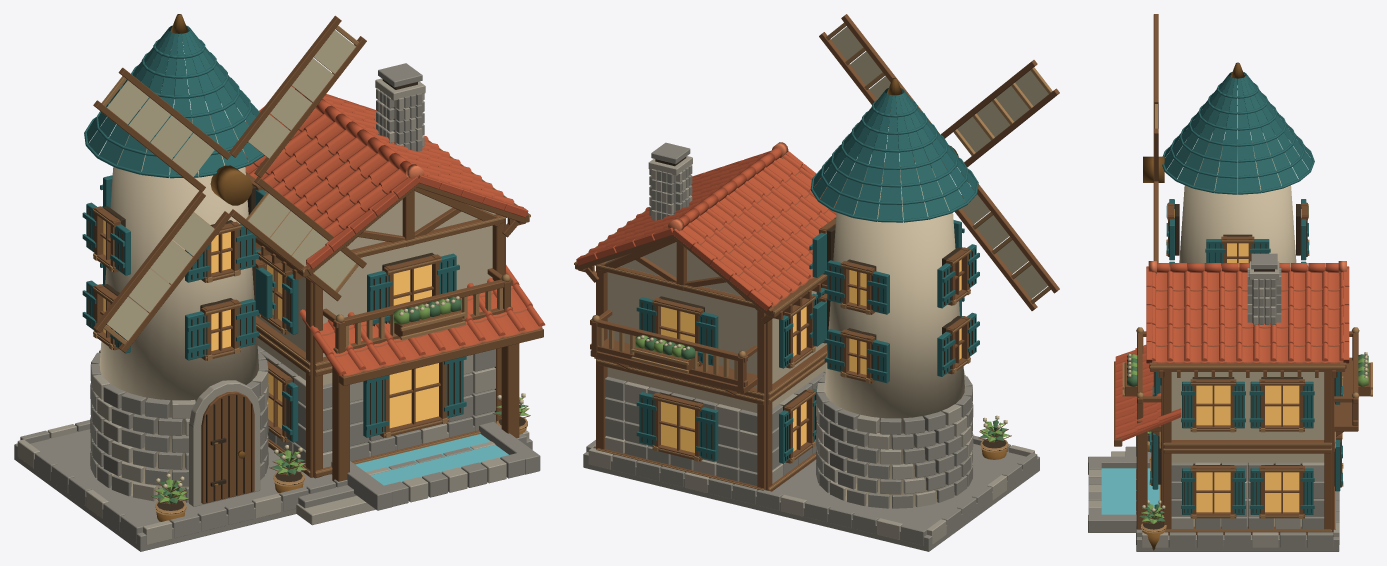
File: alpine_windmill.glb
3 renders of one model, left to right at view 1: azimuth 30°, elevation 25°; view 2: azimuth 150°, elevation 25°; view 3: azimuth 270°, elevation 25°, orthographic. The views are drawn at different scales.
Visible parts, largest first — view 1: alpine_windmill_geometry, alpine_windmill_sails_geometry, alpine_windmill_geometry ceramic; view 2: alpine_windmill_geometry, alpine_windmill_geometry ceramic, alpine_windmill_sails_geometry; view 3: alpine_windmill_geometry, alpine_windmill_geometry ceramic, alpine_windmill_sails_geometry.
Part boxes in pixels (x1,y1,x2,y2): alpine_windmill_geometry: [14, 14, 543, 551]; alpine_windmill_sails_geometry: [93, 15, 366, 352]; alpine_windmill_geometry ceramic: [244, 85, 545, 376]; alpine_windmill_geometry: [574, 78, 1039, 551]; alpine_windmill_geometry ceramic: [576, 142, 837, 310]; alpine_windmill_sails_geometry: [819, 14, 1059, 310]; alpine_windmill_geometry: [1088, 62, 1372, 551]; alpine_windmill_geometry ceramic: [1115, 261, 1349, 441]; alpine_windmill_sails_geometry: [1143, 14, 1164, 262].
Bounding box in the file's own units: 2.8 × 2.94 × 1.98.
